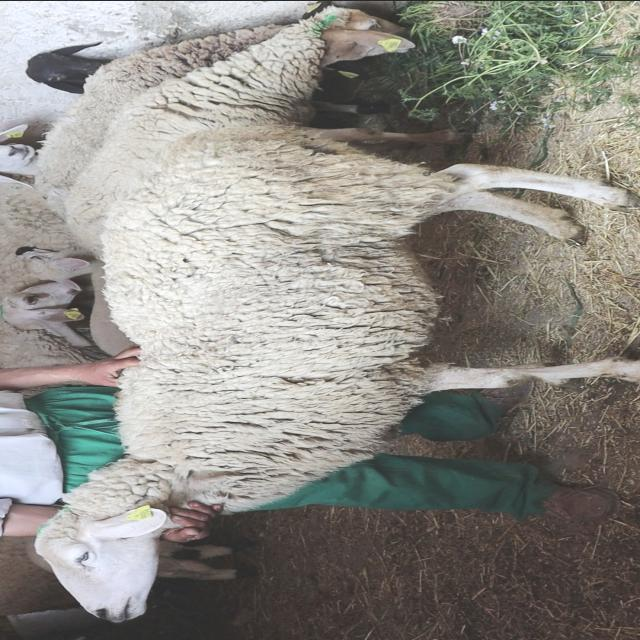Score_5: (35, 124, 639, 621)
